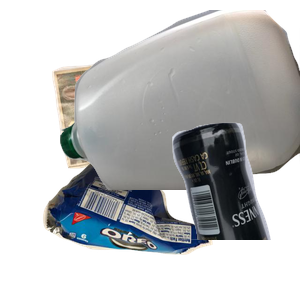glass: (106, 120, 300, 300)
paper: (49, 51, 235, 212)
plastic: (60, 10, 300, 190)
trash: (40, 158, 245, 300)
